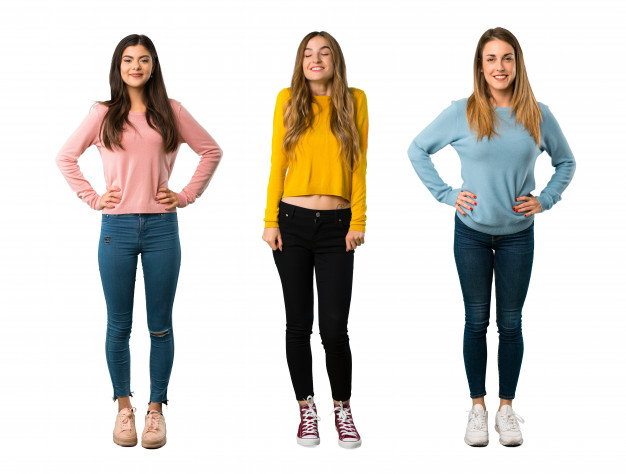person: (444, 23, 554, 154), (274, 26, 372, 141), (97, 27, 193, 136)
